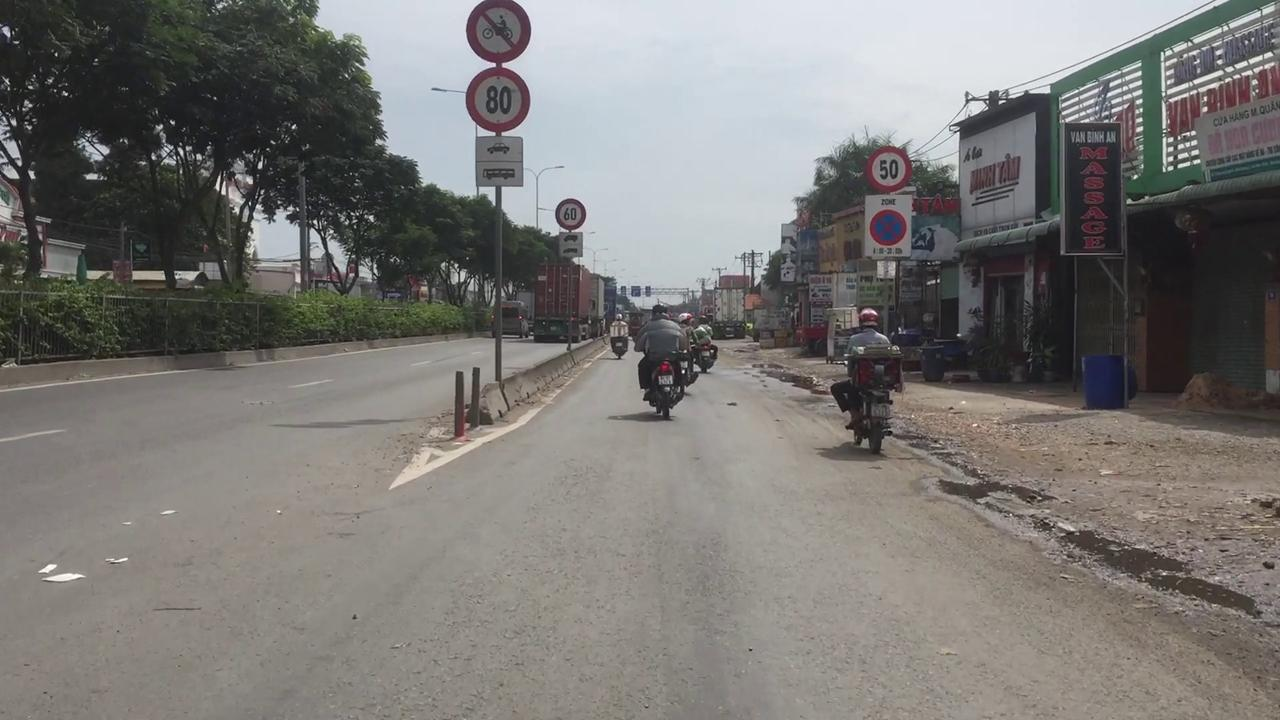P.103a: (860, 196, 914, 258)
P.103b: (466, 2, 530, 59)
P.137: (864, 144, 912, 190)
P.245a: (553, 197, 592, 229)
R.301c: (463, 70, 534, 133)
